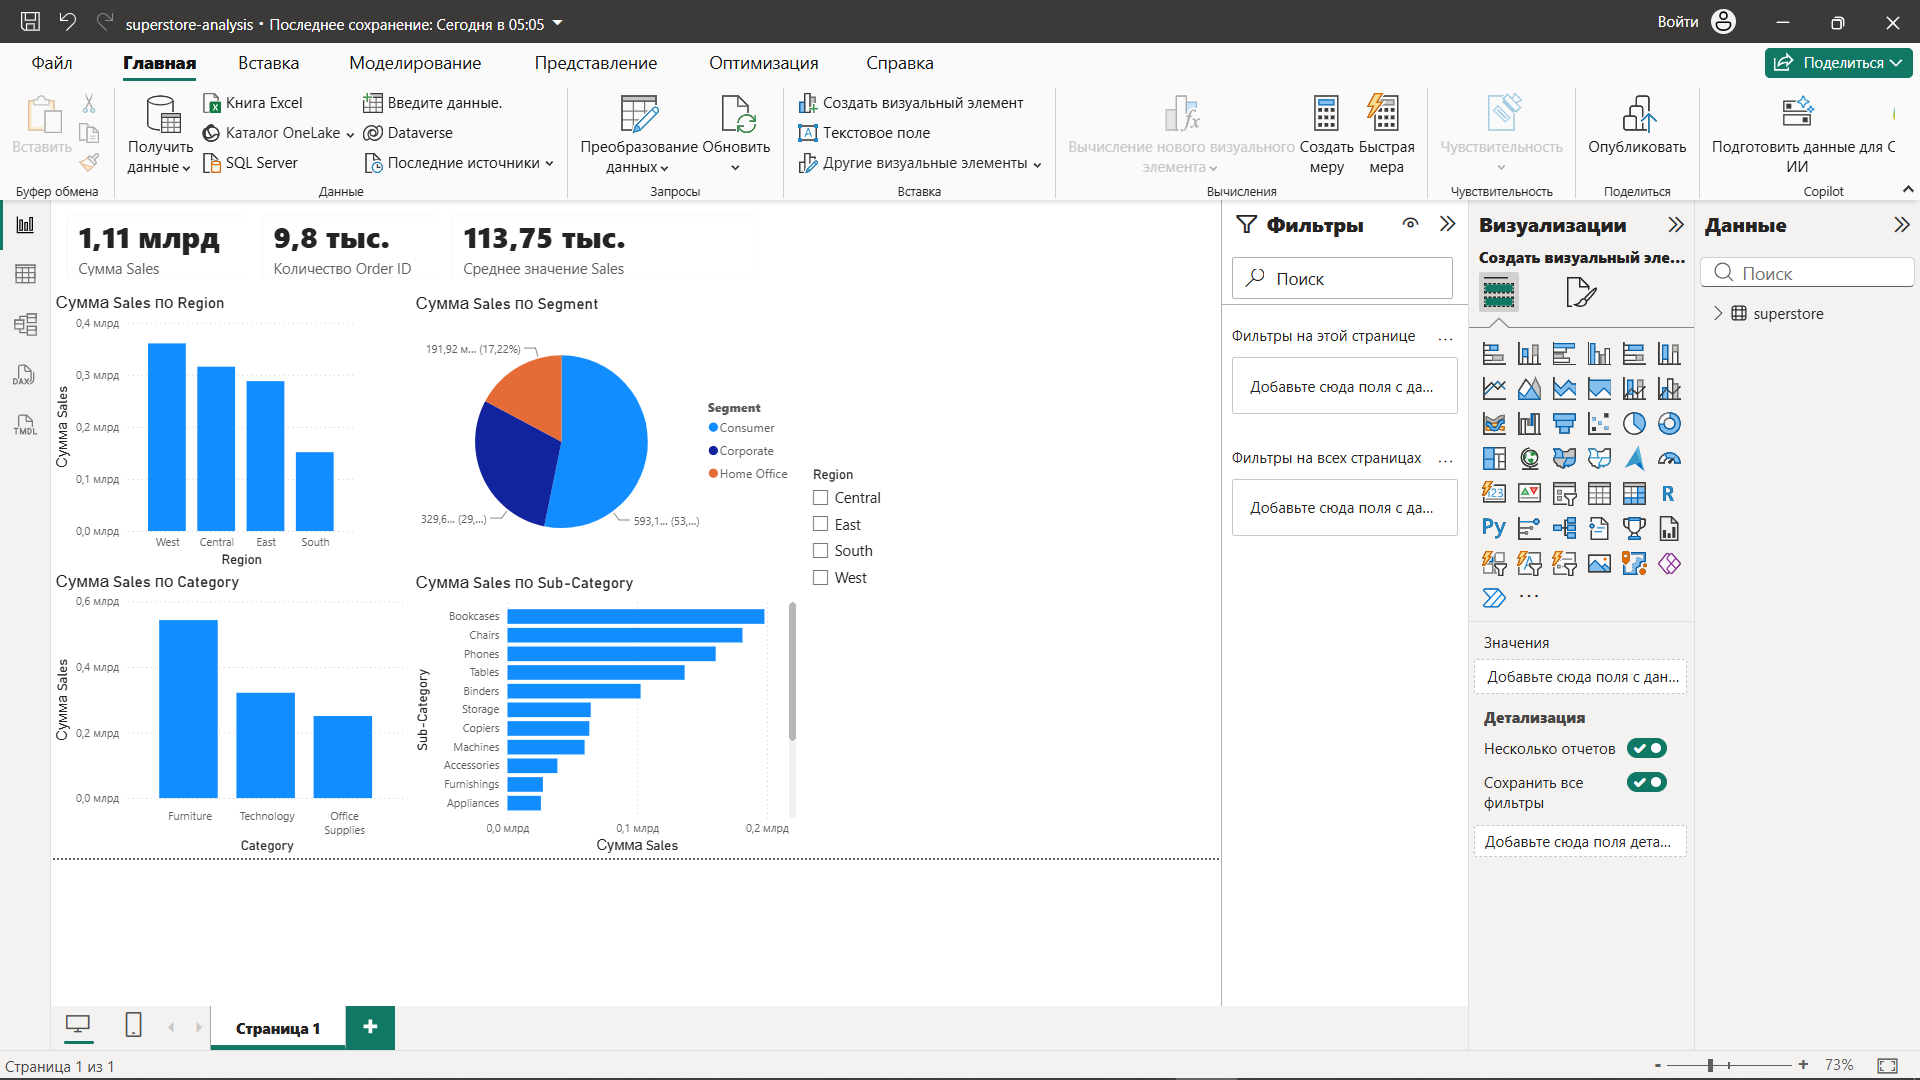

This screenshot's page, from the dashboard's own definition file:
{"tool":"powerbi","page":{"name":"Страница 1","canvas":[1280,720],"ordinal":0},"visuals":[{"type":"clusteredColumnChart","fields":{"Category":["superstore.Region"],"Y":["Sum(superstore.Sales)"]},"box":[0,101.2,337.9,305],"z":0},{"type":"clusteredColumnChart","fields":{"Category":["superstore.Category"],"Y":["Sum(superstore.Sales)"]},"box":[0,406.2,393.9,313.2],"z":1000},{"type":"pieChart","fields":{"Category":["superstore.Segment"],"Y":["Sum(superstore.Sales)"]},"box":[393.9,102.6,426.8,305],"z":2000},{"type":"slicer","fields":{"Values":["superstore.Region"]},"box":[1073.7,139.5,97.1,145],"z":3000},{"type":"cardVisual","fields":{"Data":["Sum(superstore.Sales)"]},"box":[0,0,370.7,101.2],"z":4000},{"type":"cardVisual","fields":{"Data":["CountNonNull(superstore.Order ID)"]},"box":[213.4,0,370.7,102.6],"z":5000},{"type":"cardVisual","fields":{"Data":["Avg(superstore.Sales)"]},"box":[421.3,0,370.7,102.6],"z":5001},{"type":"clusteredBarChart","fields":{"Category":["superstore.Sub-Category"],"Y":["Sum(superstore.Sales)"]},"box":[393.9,407.6,426.8,311.9],"z":5002}]}

Visuals, with their boxes on the page's 1280x720 design canvas (x1, y1, x2, y2). These are canvas units, not pixel positions in the 1920x1080 screenshot, which may show the page scaled, cropped or inside an application window:
clusteredColumnChart - superstore.Region x Sum(superstore.Sales): 0 101 338 406
clusteredColumnChart - superstore.Category x Sum(superstore.Sales): 0 406 394 719
pieChart - superstore.Segment x Sum(superstore.Sales): 394 103 821 408
slicer - superstore.Region: 1074 140 1171 284
cardVisual - Sum(superstore.Sales): 0 0 371 101
cardVisual - CountNonNull(superstore.Order ID): 213 0 584 103
cardVisual - Avg(superstore.Sales): 421 0 792 103
clusteredBarChart - superstore.Sub-Category x Sum(superstore.Sales): 394 408 821 720
